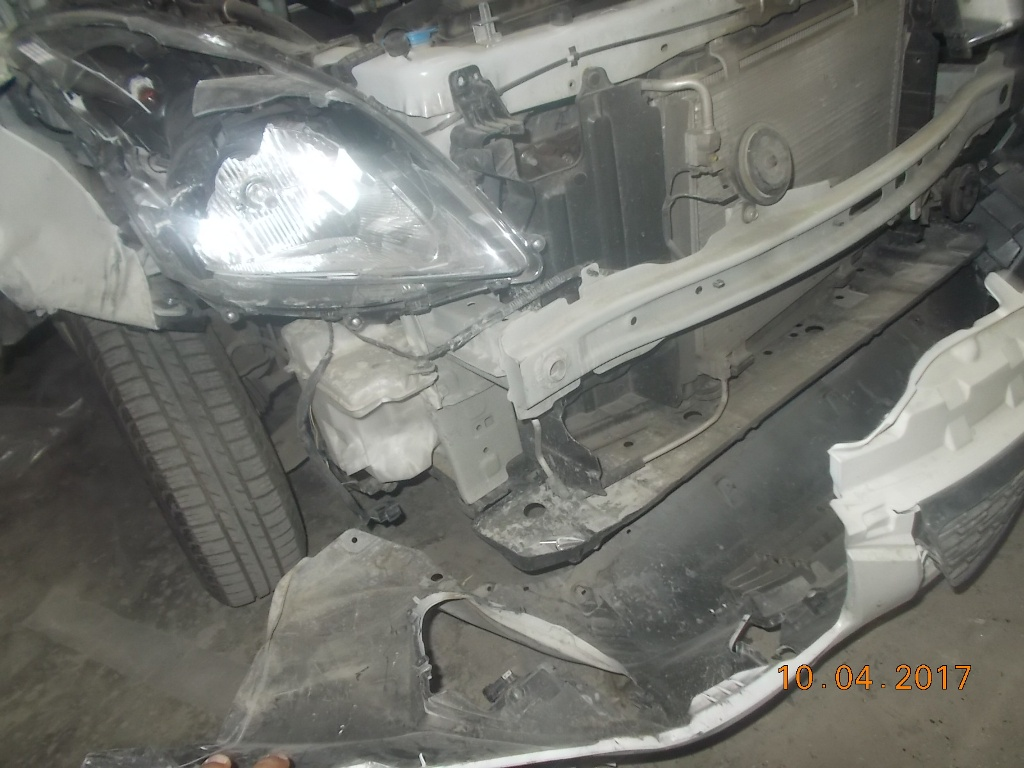Large_tear_or_damage: (47, 29, 998, 744)
